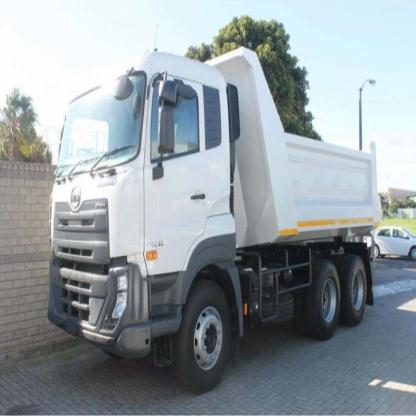dump_truck: (40, 31, 387, 393)
